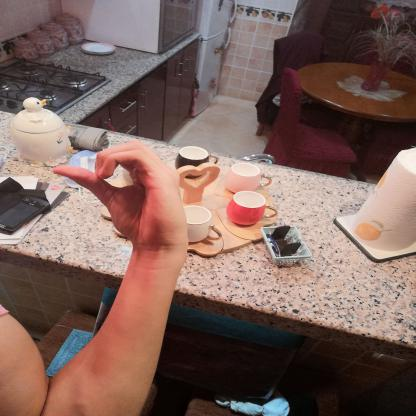WAW: (37, 130, 202, 258)
